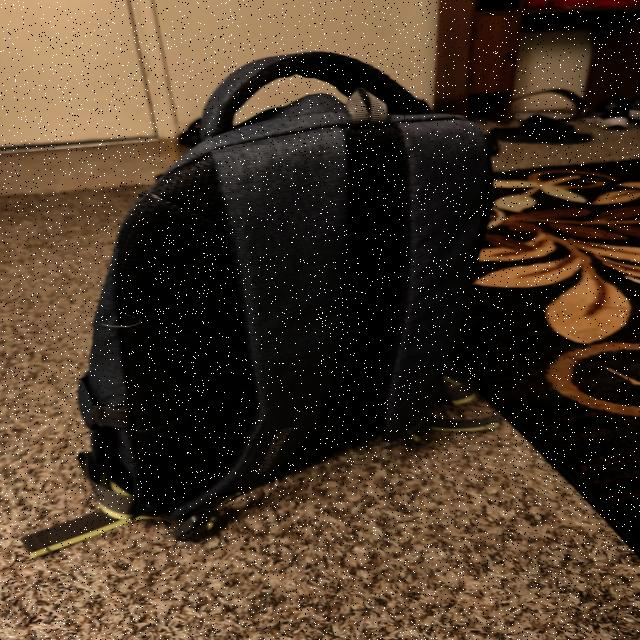bag: (113, 52, 485, 519)
